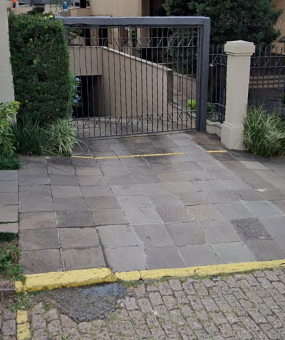vag4: (5, 230, 284, 314)
